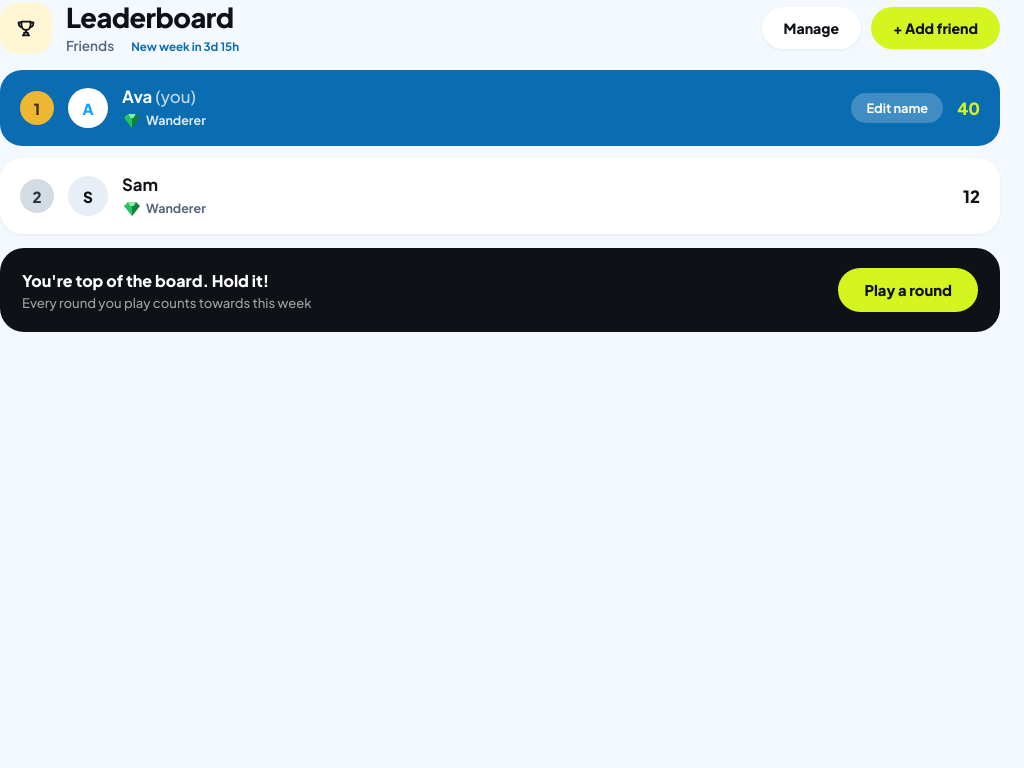
Scenario: LeaderboardScreen › opens the add-a-friend sheet with your code in it
This screenshot has width=1024, height=768.
Click the button with class "board-addbtn" at [936, 28], box [871, 7, 1000, 49]
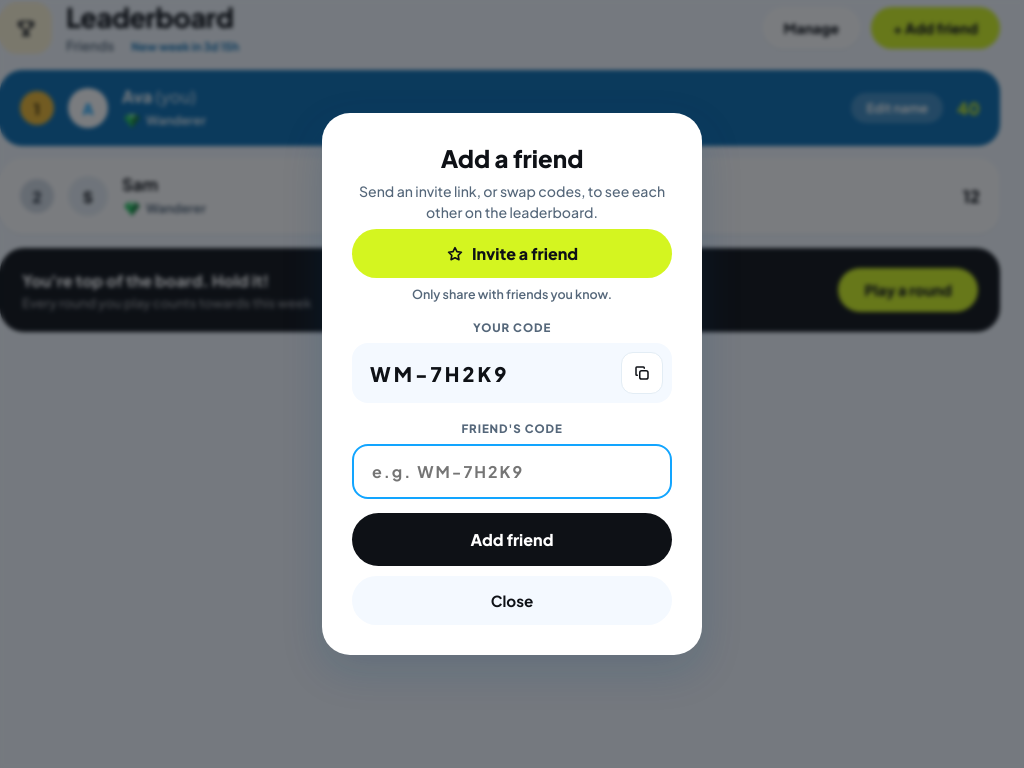
Now the text with class "board-codeval" reads "WM-7H2K9", box [370, 361, 509, 386]
Now the field with class "board-sheet-input" is shown, box [352, 444, 672, 499]
